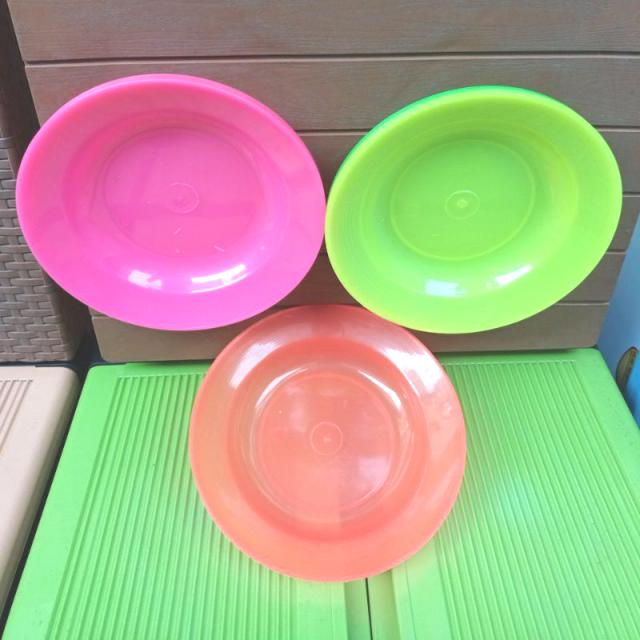Piring: (11, 66, 315, 346), (322, 77, 626, 346), (186, 302, 474, 582)
